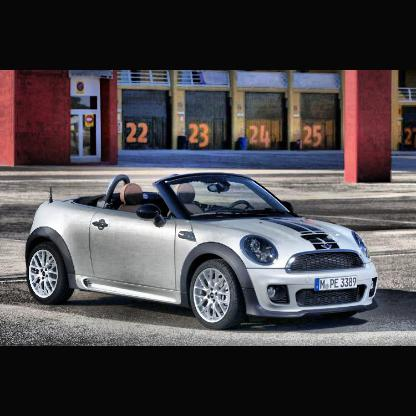MINI Cooper Roadster Convertible 2012: (26, 169, 381, 333)
